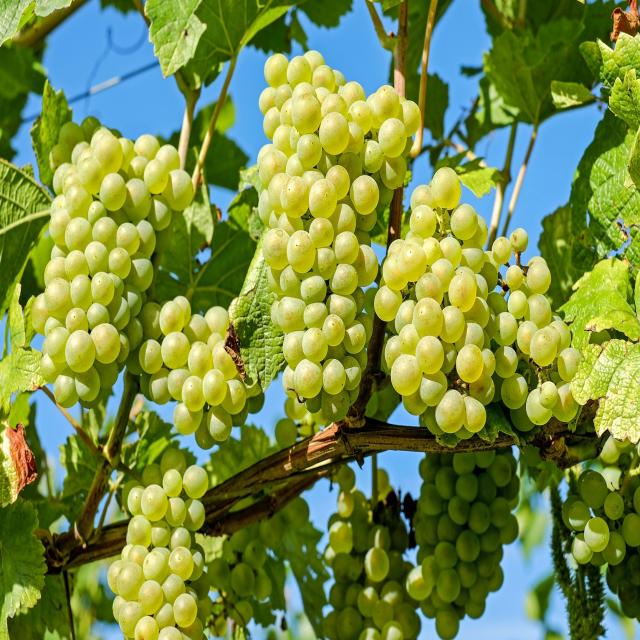grape: (236, 29, 406, 428), (30, 124, 172, 424), (372, 145, 504, 466), (80, 459, 219, 640)
